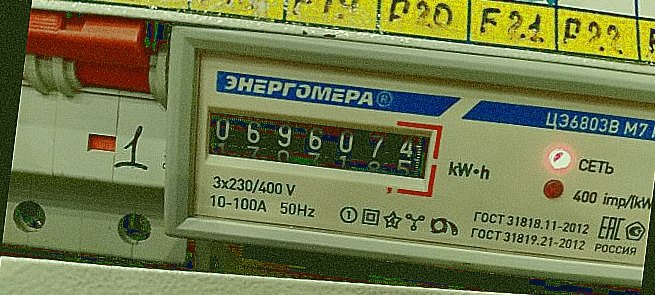0: (210, 114, 232, 141), (336, 126, 355, 154)
4: (397, 133, 416, 159)
5: (395, 157, 412, 176)
6: (243, 116, 265, 145), (304, 124, 324, 150)
7: (365, 131, 386, 159)
9: (273, 121, 294, 148)
screen: (188, 90, 448, 201)
